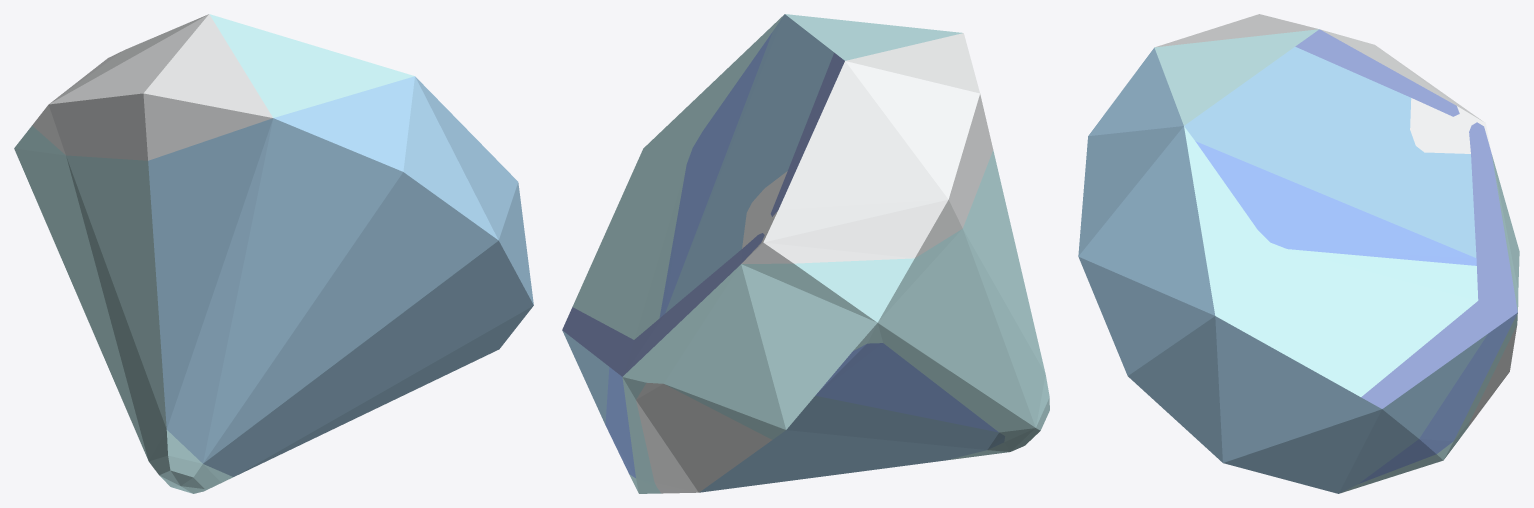
Rendered from Mesh_Adventure_Diamond_SM.FBX.
3 renders of one model, left to right at view 1: azimuth 30°, elevation 25°; view 2: azimuth 150°, elevation 25°; view 3: azimuth 270°, elevation 25°, orthographic. The views are drawn at different scales.
Visible parts, largest first — view 1: Mesh_Adventure_Diamond; view 2: Mesh_Adventure_Diamond; view 3: Mesh_Adventure_Diamond.
Part boxes in pixels (box(x1,y1,x2,y2)): Mesh_Adventure_Diamond: box(14, 14, 533, 493); Mesh_Adventure_Diamond: box(562, 14, 1049, 493); Mesh_Adventure_Diamond: box(1078, 14, 1519, 493).
Bounding box in the file's own units: 32.68 × 33.05 × 35.39.
